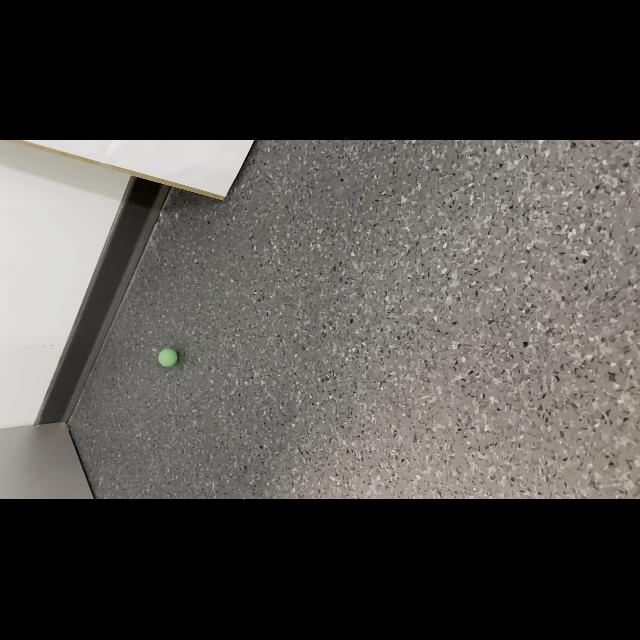objects: (156, 346, 178, 368)
